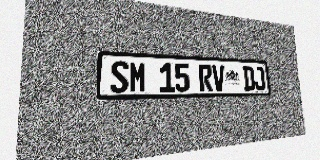1: (159, 62, 175, 92)
5: (175, 63, 190, 92)
D: (242, 66, 255, 91)
J: (253, 66, 266, 91)
M: (129, 61, 147, 93)
R: (199, 64, 213, 92)
S: (110, 60, 129, 93)
V: (212, 65, 226, 91)
